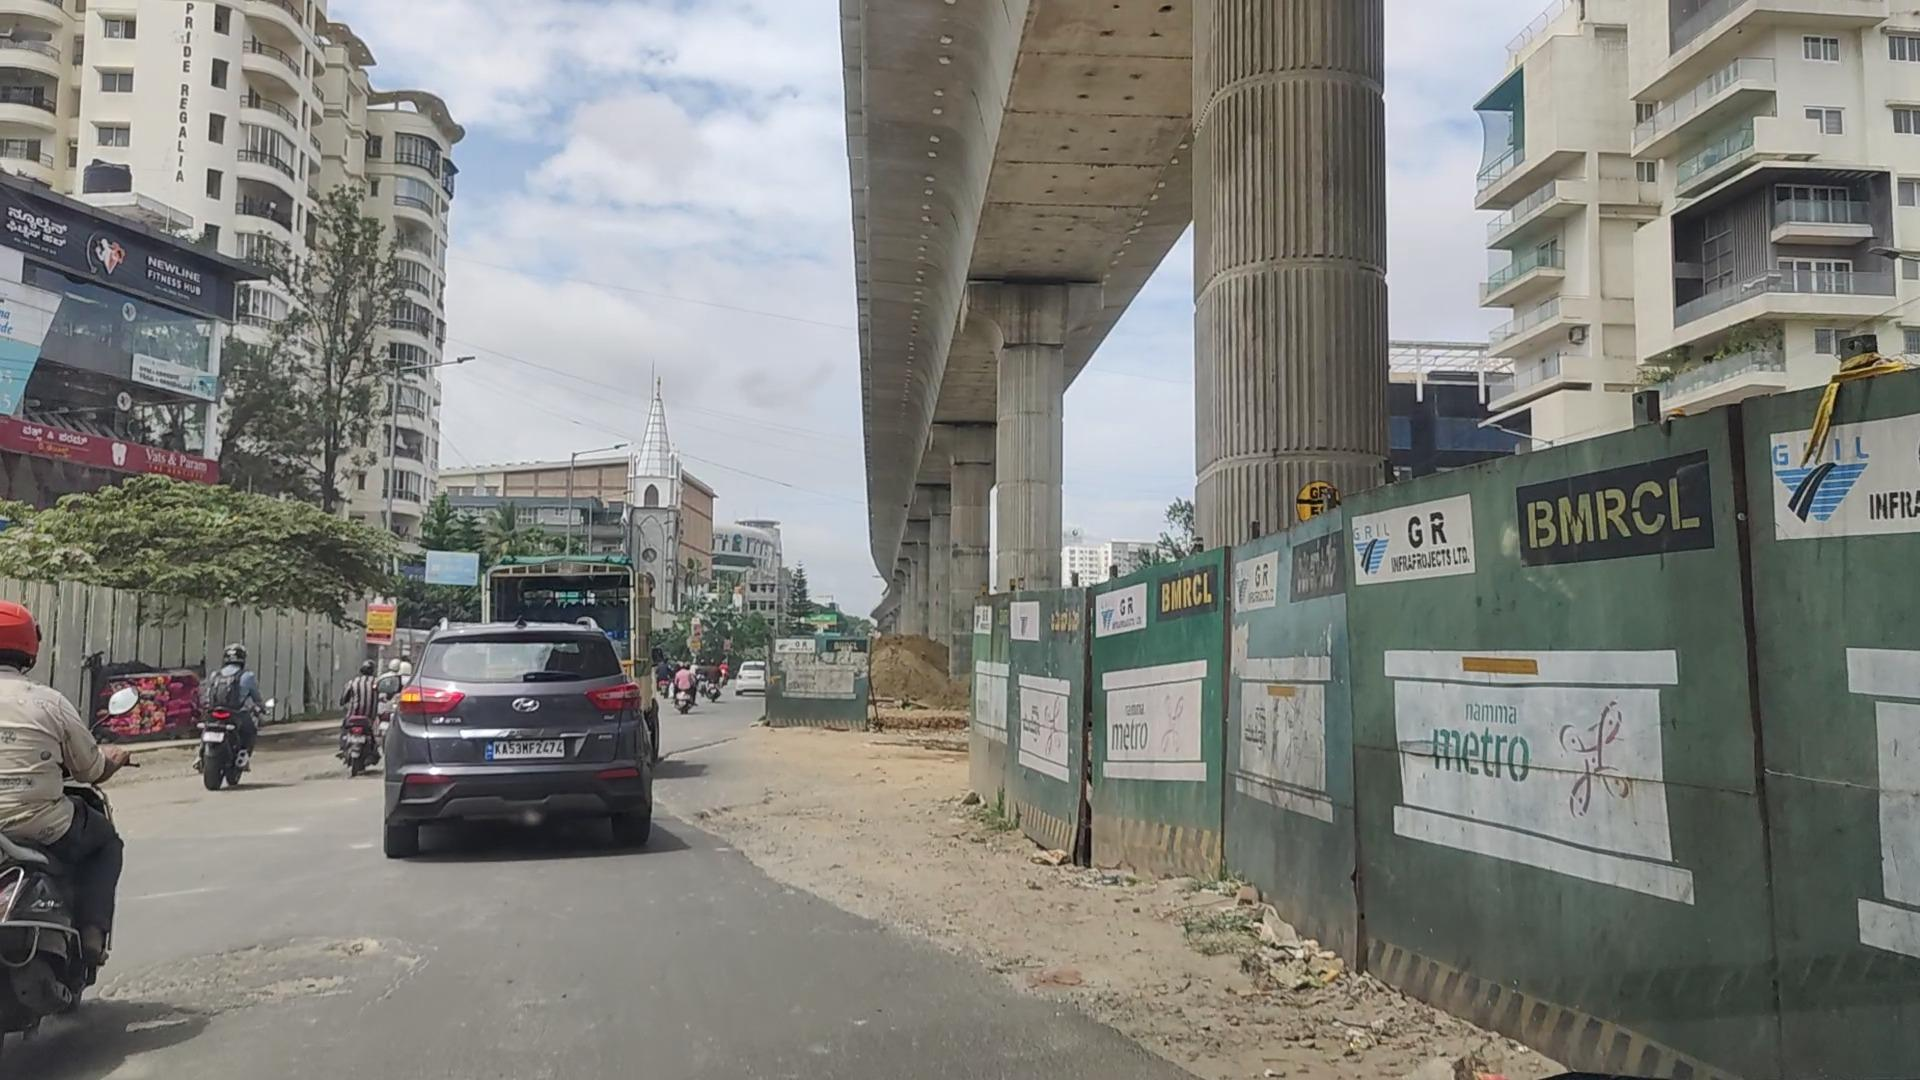LMV: (1, 617, 127, 1056), (392, 638, 649, 852), (195, 636, 276, 794)
RoadDamages: (187, 907, 396, 1022), (837, 901, 1026, 1026), (691, 791, 806, 905)
